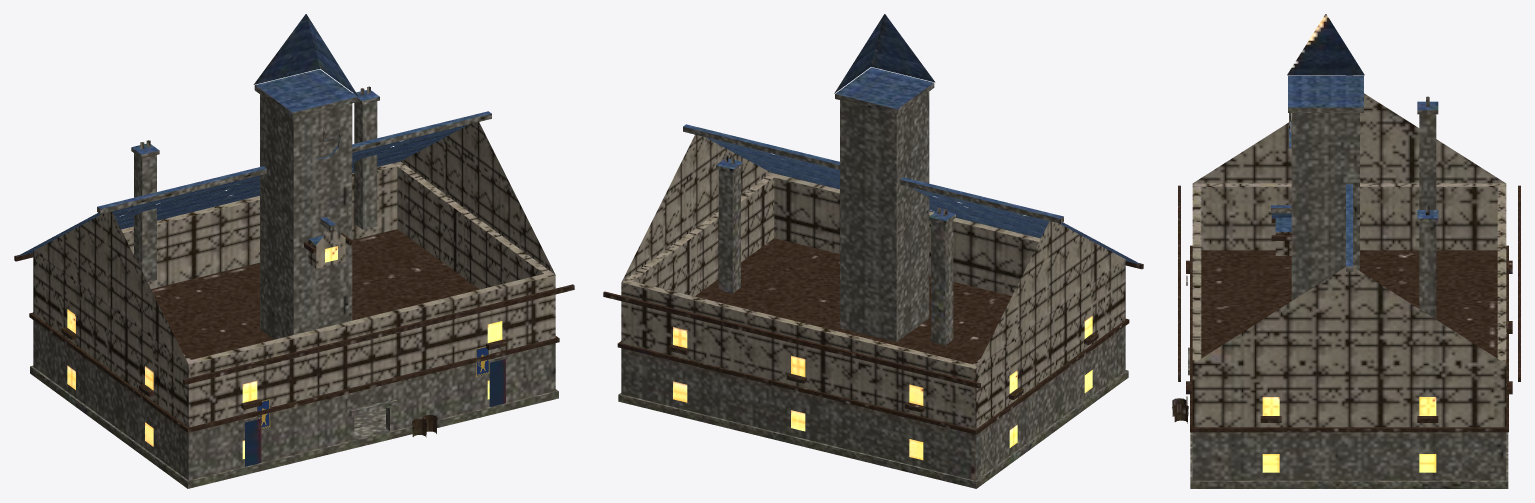
Rendered from bld_guildhall_card_lod2.glb.
3 renders of one model, left to right at view 1: azimuth 30°, elevation 25°; view 2: azimuth 150°, elevation 25°; view 3: azimuth 270°, elevation 25°, orthographic. The views are drawn at different scales.
Parts seen in each view (by area): view 1: guildhall_card; view 2: guildhall_card; view 3: guildhall_card.
Part boxes in pixels (bbox=[...]): guildhall_card: bbox=[14, 14, 574, 488]; guildhall_card: bbox=[603, 14, 1143, 488]; guildhall_card: bbox=[1172, 14, 1520, 488].
Size of the model in its own units: 40.8 by 37.87 by 31.23.
1 material, 1 textured.
